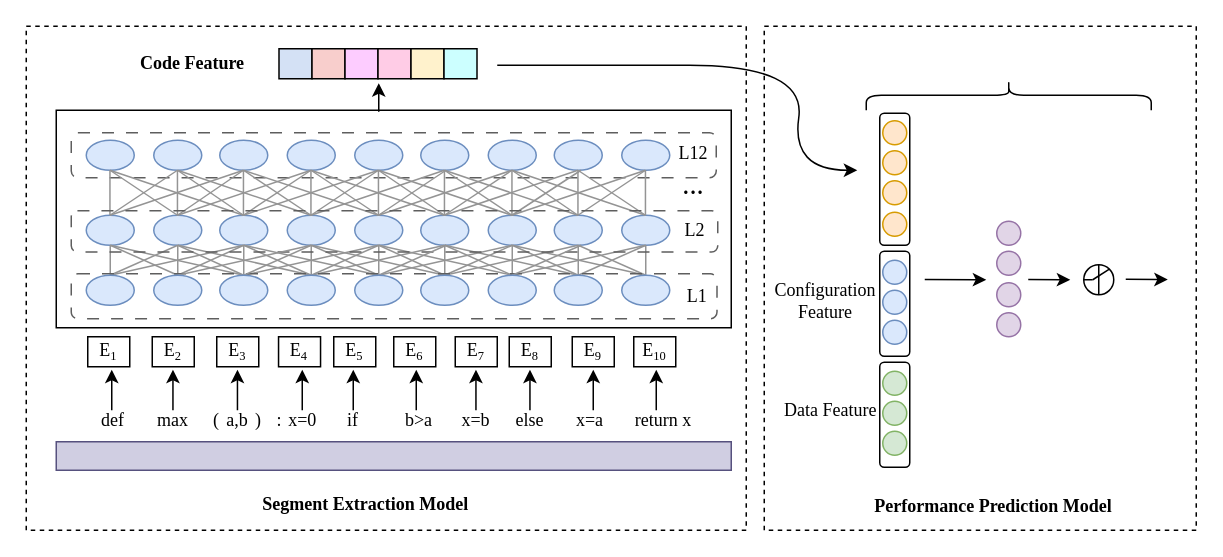
The diagram is 1223 pixels wide and 557 high, and some of its shapes have lost their labels. Each missing label, with the centre of its shape:
"Source Code" goes at point 393,455.
"Tower MLP" goes at point 1008,94.
